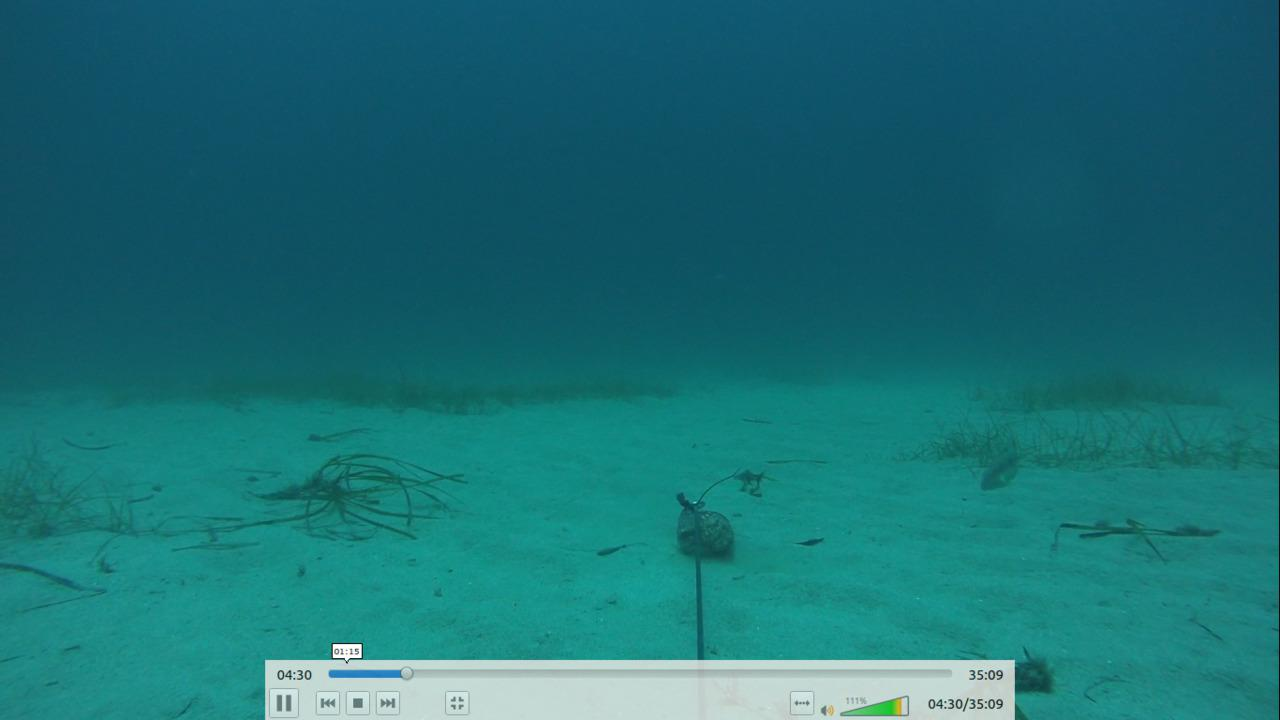raor: (973, 447, 1030, 495)
